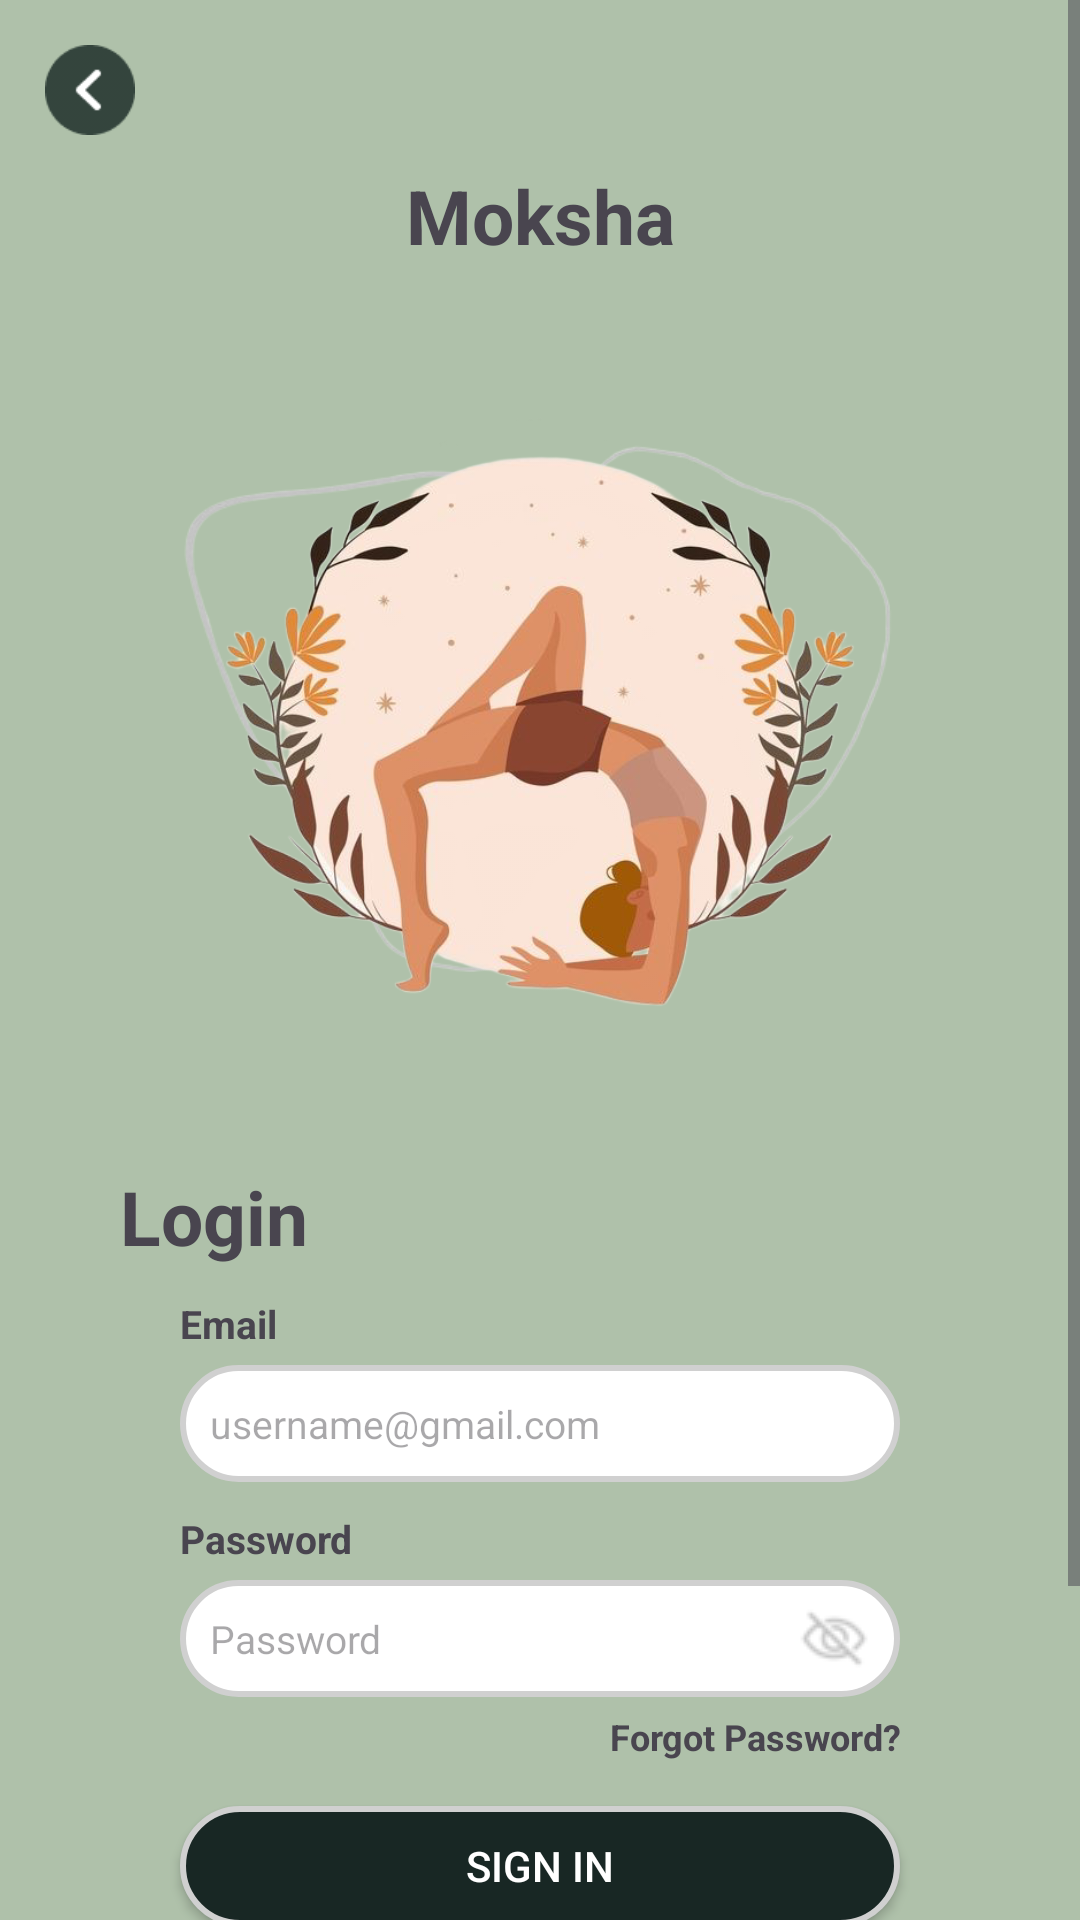

Locate icon controls on the screen. Image size 1080w x 1920h, boxes as (x1, y1, x2, y2).
goback: (45, 45, 135, 135)
